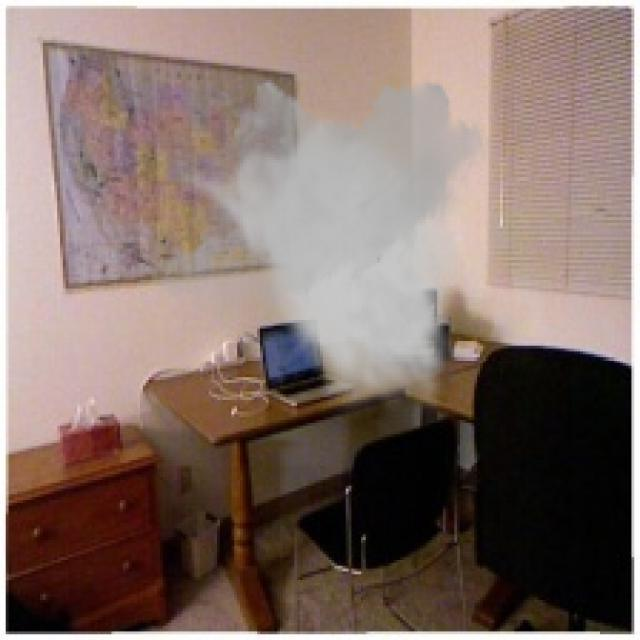Smoke: (148, 71, 494, 423)
